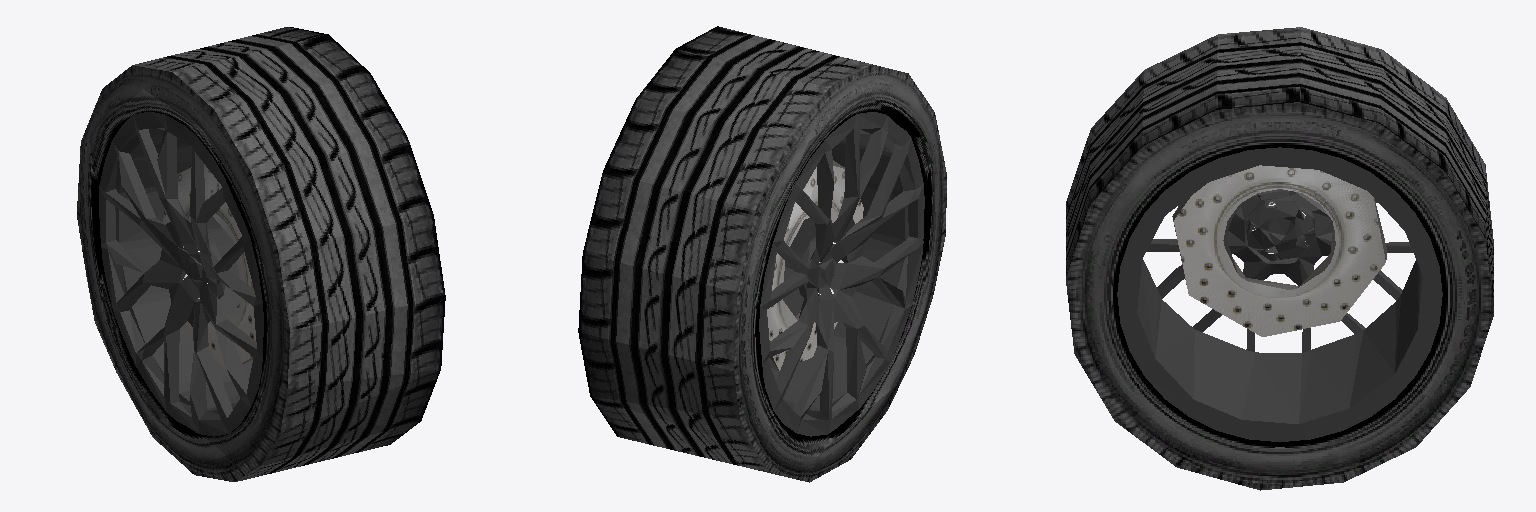
3 renders of one model, left to right at view 1: azimuth 30°, elevation 25°; view 2: azimuth 150°, elevation 25°; view 3: azimuth 270°, elevation 25°, orthographic.
Visible parts, largest first — view 1: XZ_wheel; view 2: XZ_wheel; view 3: XZ_wheel.
Part boxes in pixels (x1,y1,x2,y2): XZ_wheel: (77,27,445,481); XZ_wheel: (578,26,946,482); XZ_wheel: (1066,27,1493,490).
Size of the model in its own units: 0.2926 by 0.6579 by 0.6579.
1 materials, 1 textured.